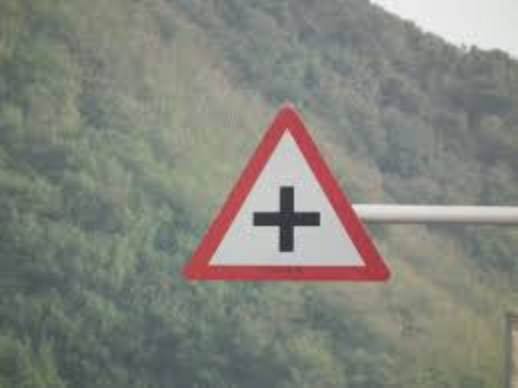Fork_road: (186, 104, 388, 284)
